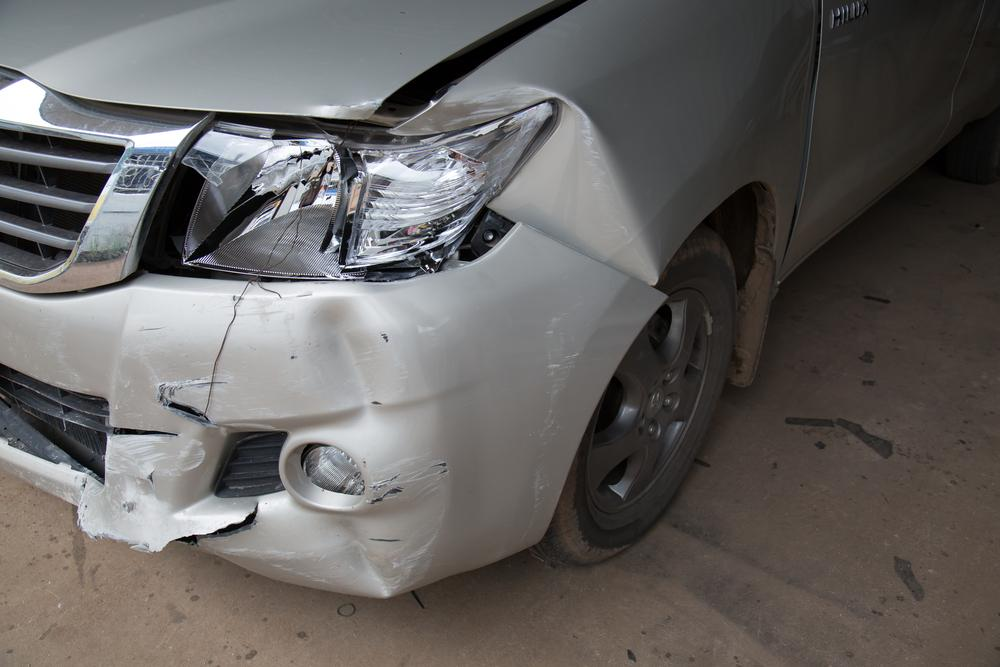crack: (173, 502, 259, 546), (165, 402, 213, 427), (111, 426, 181, 436)
dent: (491, 107, 654, 284), (326, 493, 437, 596), (311, 298, 397, 415), (393, 82, 554, 135)
lamp broken: (158, 104, 558, 278)
scratch: (369, 450, 452, 591), (533, 309, 582, 509), (106, 438, 211, 517), (156, 372, 236, 405)
